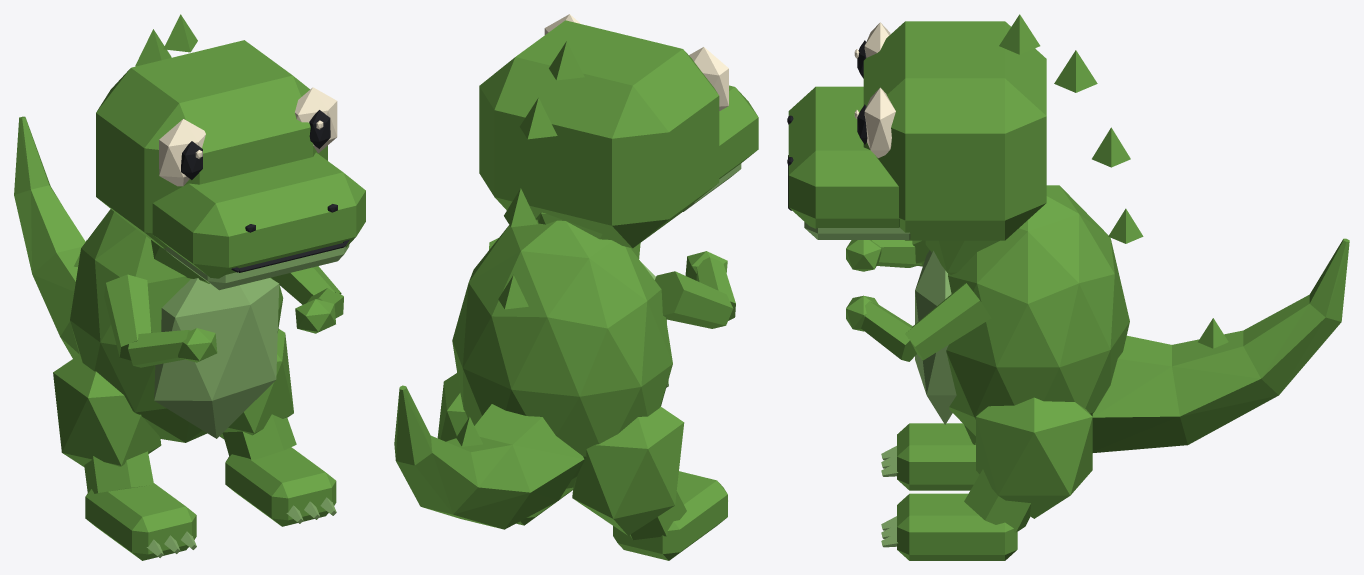
The model's file is Dinosaure_vert.glb.
3 views of the same model, side by side, from view 1: azimuth 30°, elevation 25°; view 2: azimuth 150°, elevation 25°; view 3: azimuth 270°, elevation 25° (orthographic). The views are drawn at different scales.
Parts seen in each view (by area): view 1: Dinosaure_vert; view 2: Dinosaure_vert; view 3: Dinosaure_vert.
Boxes of the visible parts, x1,y1,x2,y2 form: Dinosaure_vert: [14, 14, 365, 560]; Dinosaure_vert: [394, 14, 758, 560]; Dinosaure_vert: [787, 14, 1349, 560].
Size of the model in its own units: 1.28 by 2.66 by 2.7.
